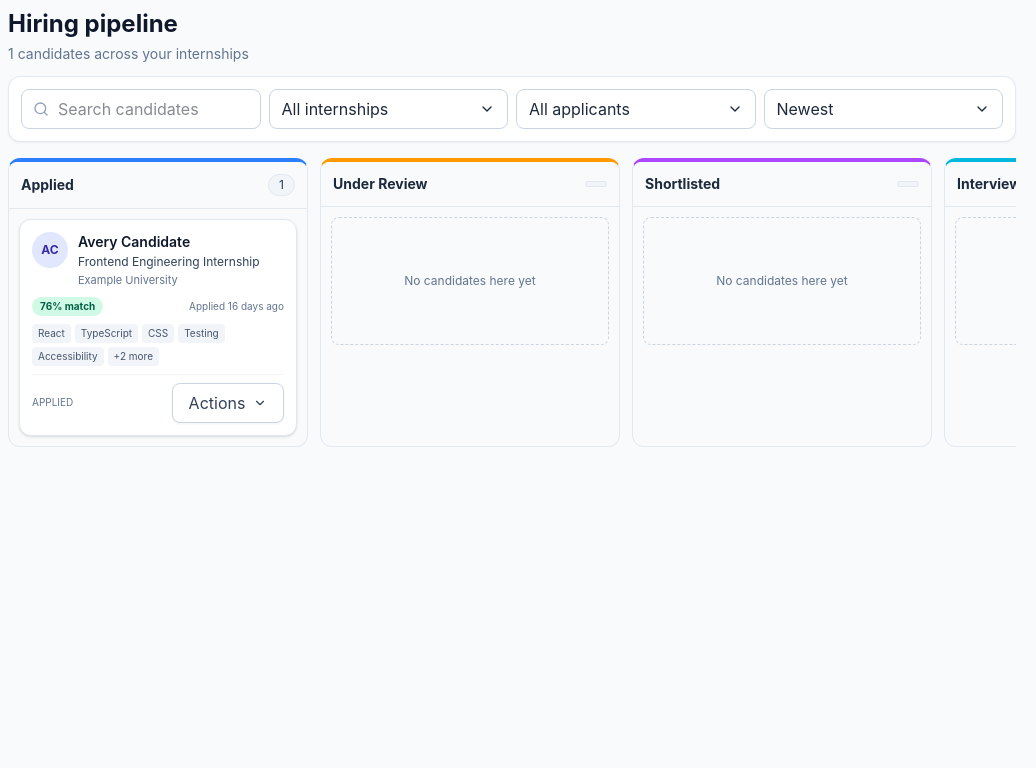
Test: company pipeline and shortlisted redesign › shows enabled and disabled actions using backend-provided transition permissions
Expected: the text "Avery Candidate" is shown, [78,233,190,250]
Click the button "Actions": [228, 402] box [172,382,284,422]
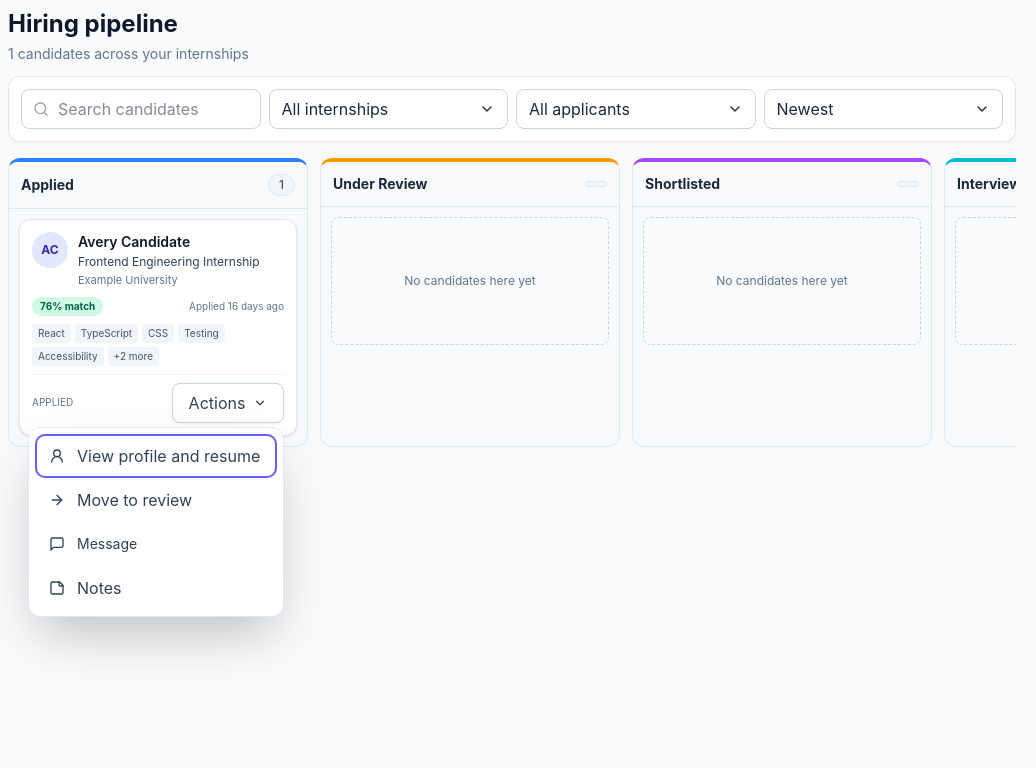
Expected: the menu item "Move to review" is enabled, [37,480,275,520]
